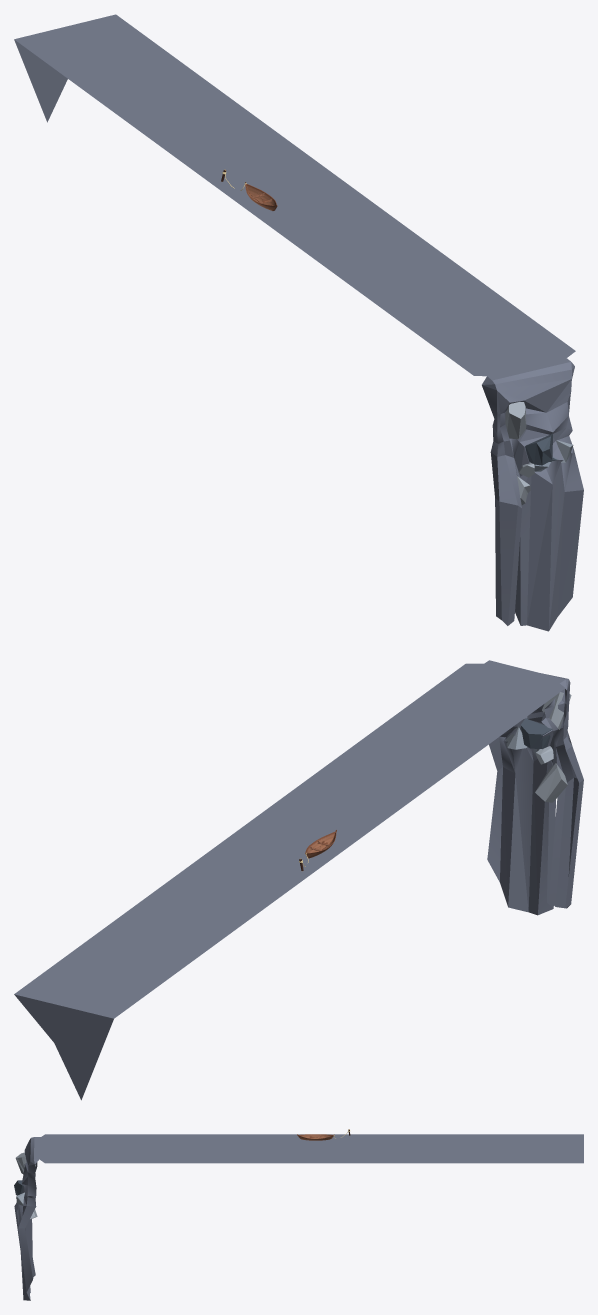
Rendered from River.fbx.
The picture shows the model from 3 angles, top to bottom: view 1: azimuth 30°, elevation 25°; view 2: azimuth 150°, elevation 25°; view 3: azimuth 270°, elevation 25°; orthographic projection. The views are drawn at different scales.
Parts seen in each view (by area): view 1: Waterfall, Scene; view 2: Waterfall, Scene; view 3: Waterfall, Scene.
Boxes of the visible parts, box(x1,y1,x2,y2) form: Waterfall: box(14, 14, 583, 631); Scene: box(221, 169, 573, 505); Waterfall: box(14, 660, 583, 1100); Scene: box(299, 692, 571, 871); Waterfall: box(14, 1134, 583, 1300); Scene: box(14, 1129, 350, 1219).
Size of the model in its own units: 857 by 2166 by 7085.
